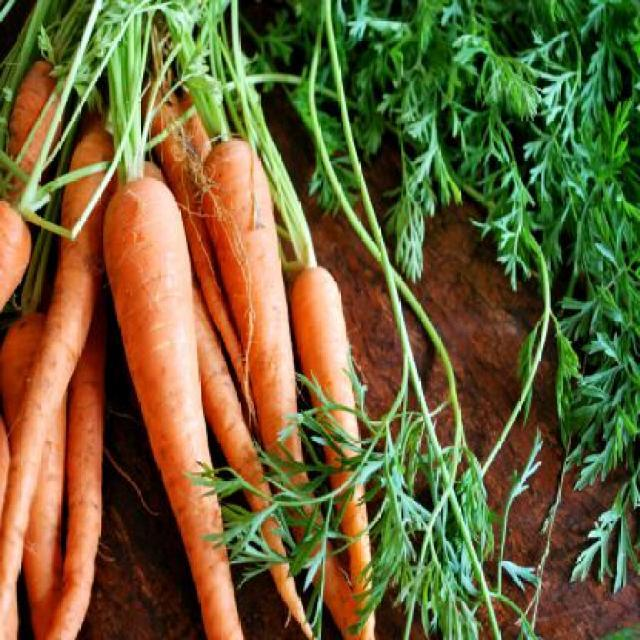Carrot: (100, 0, 246, 638), (0, 58, 103, 640), (290, 264, 377, 640)
